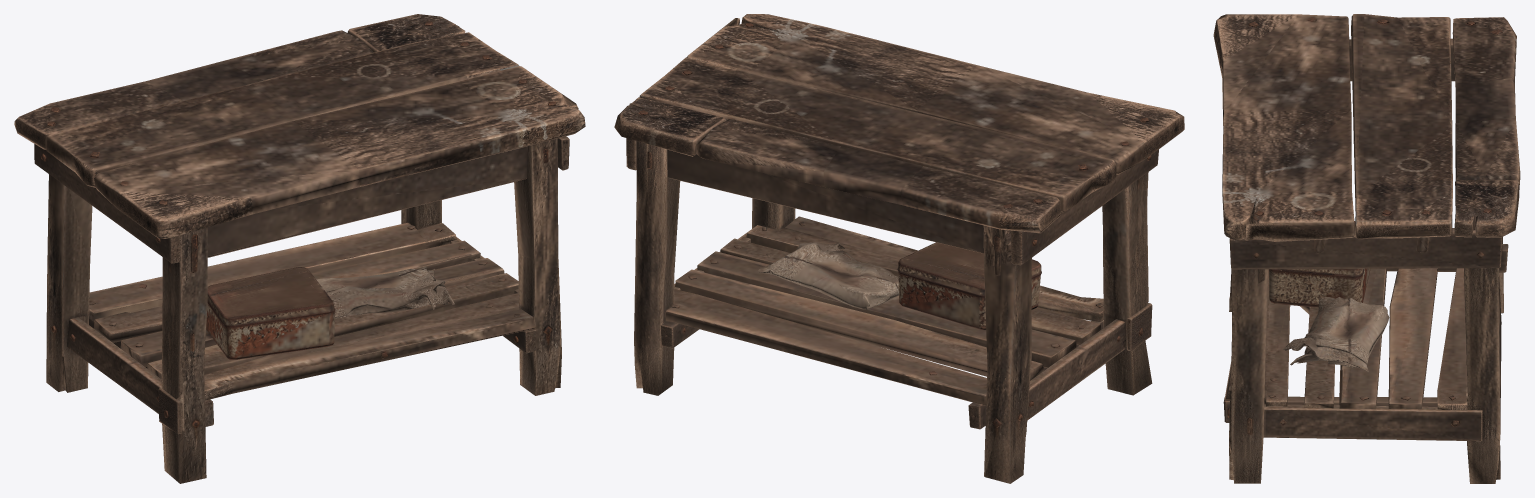
The model's file is Meshy_AI_Weathered_Workbench_20261029_texture.fbx.
The picture shows the model from 3 angles, left to right: view 1: azimuth 30°, elevation 25°; view 2: azimuth 150°, elevation 25°; view 3: azimuth 270°, elevation 25°; orthographic projection.
Visible parts, largest first — view 1: Mesh_0; view 2: Mesh_0; view 3: Mesh_0.
Boxes of the visible parts, box(x1,y1,x2,y2) form: Mesh_0: box(14, 14, 585, 483); Mesh_0: box(614, 14, 1184, 483); Mesh_0: box(1213, 14, 1520, 483).
Bounding box in the file's own units: 94.97 × 57.76 × 58.45.
1 material, 1 textured.
